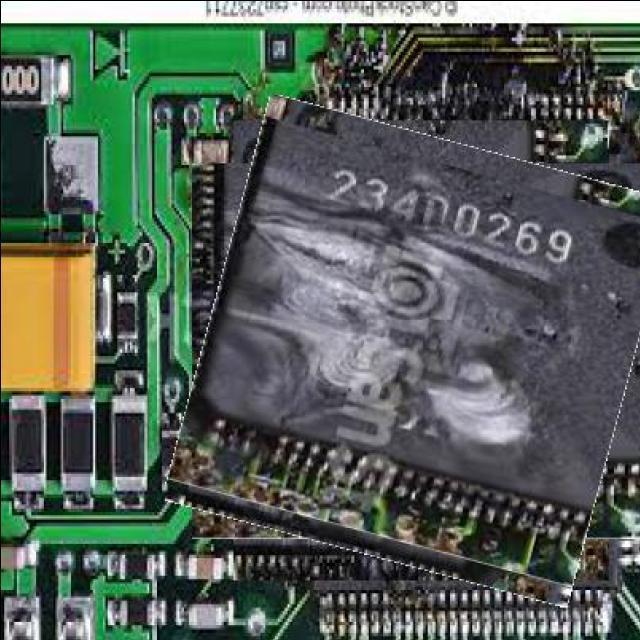Burn: (186, 116, 640, 583)
